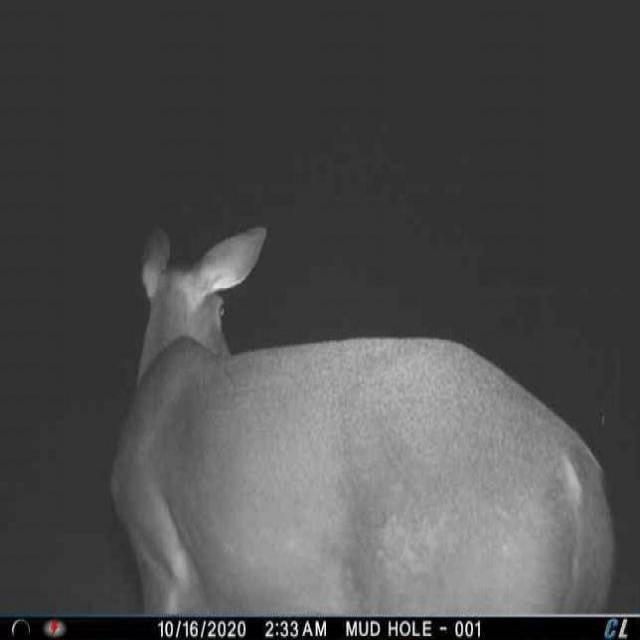deer: (108, 217, 619, 620)
